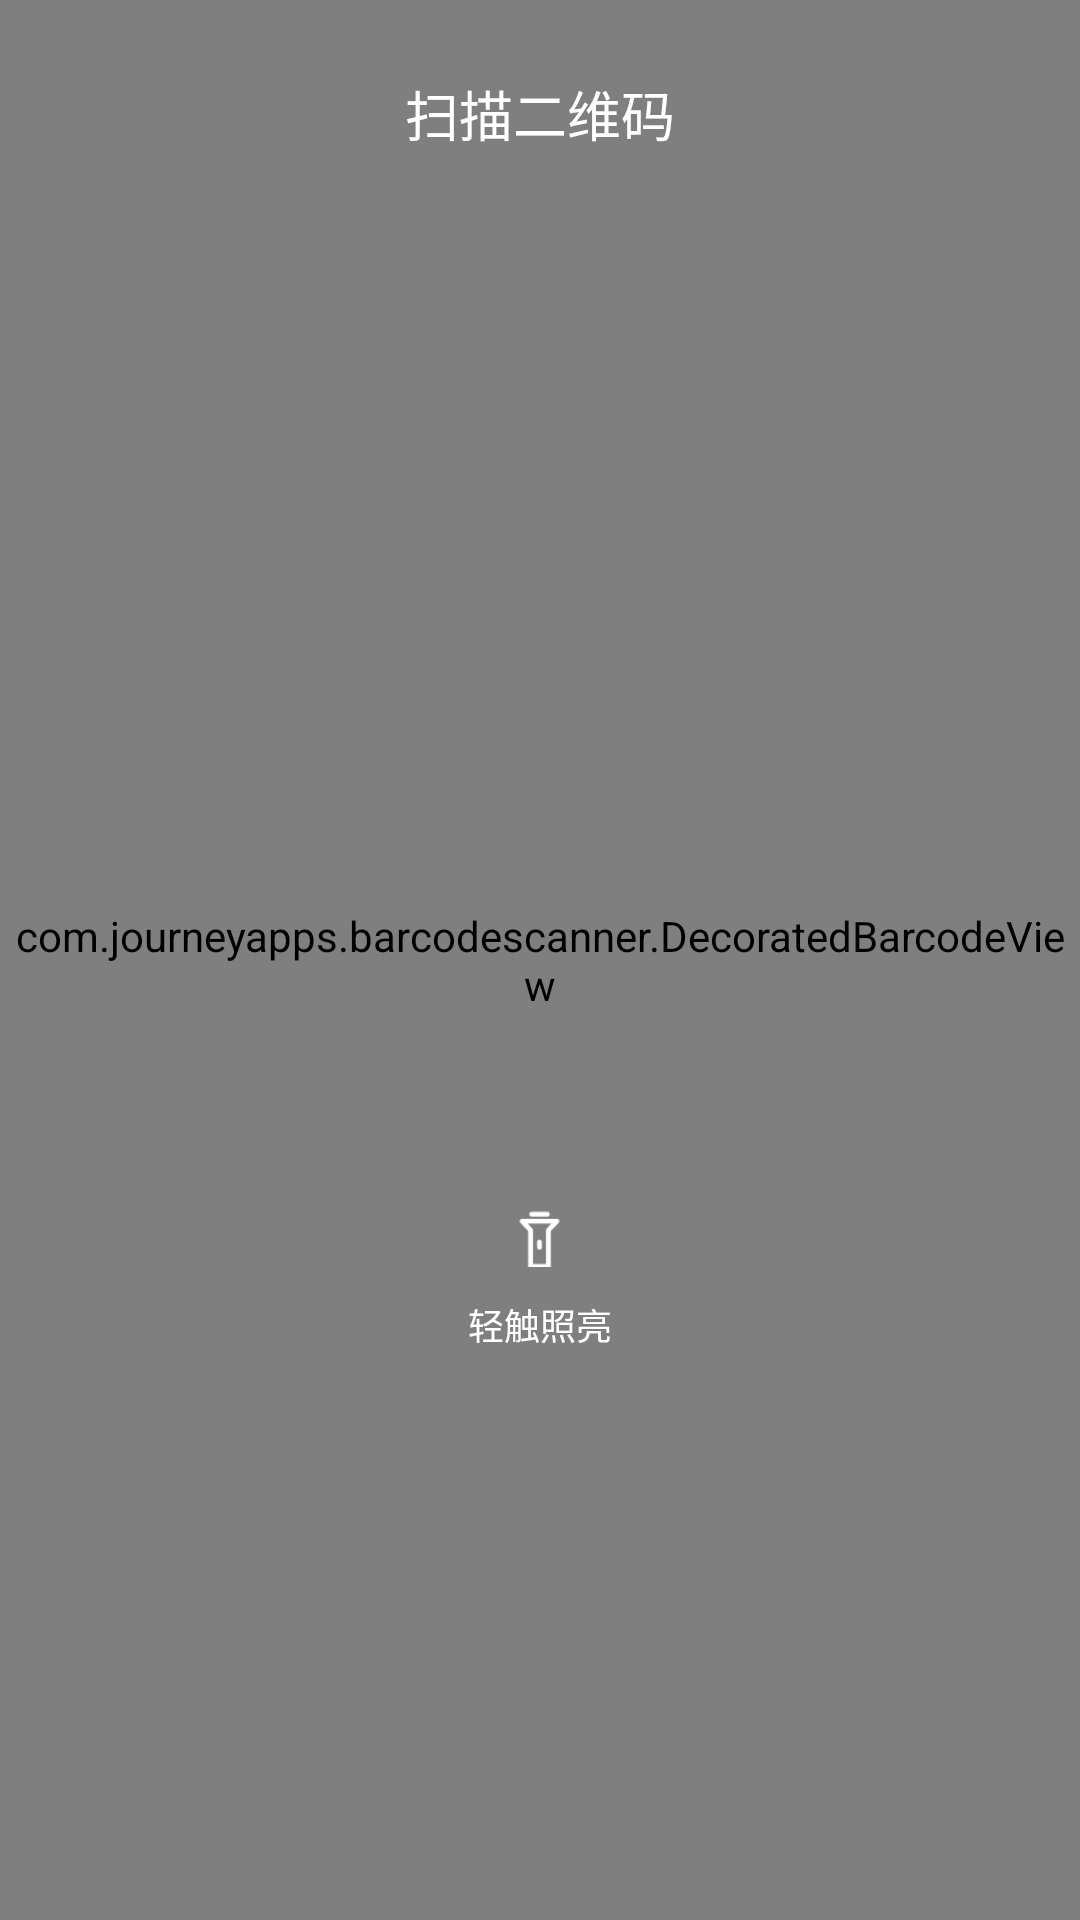

Icon click points for this 1080 × 1920 phone screenshot, format [x,y]:
off: [539,1239]
